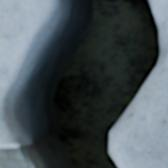broken_brick: (111, 0, 167, 167), (0, 0, 50, 105), (0, 116, 15, 149)
crack: (0, 0, 166, 167)
